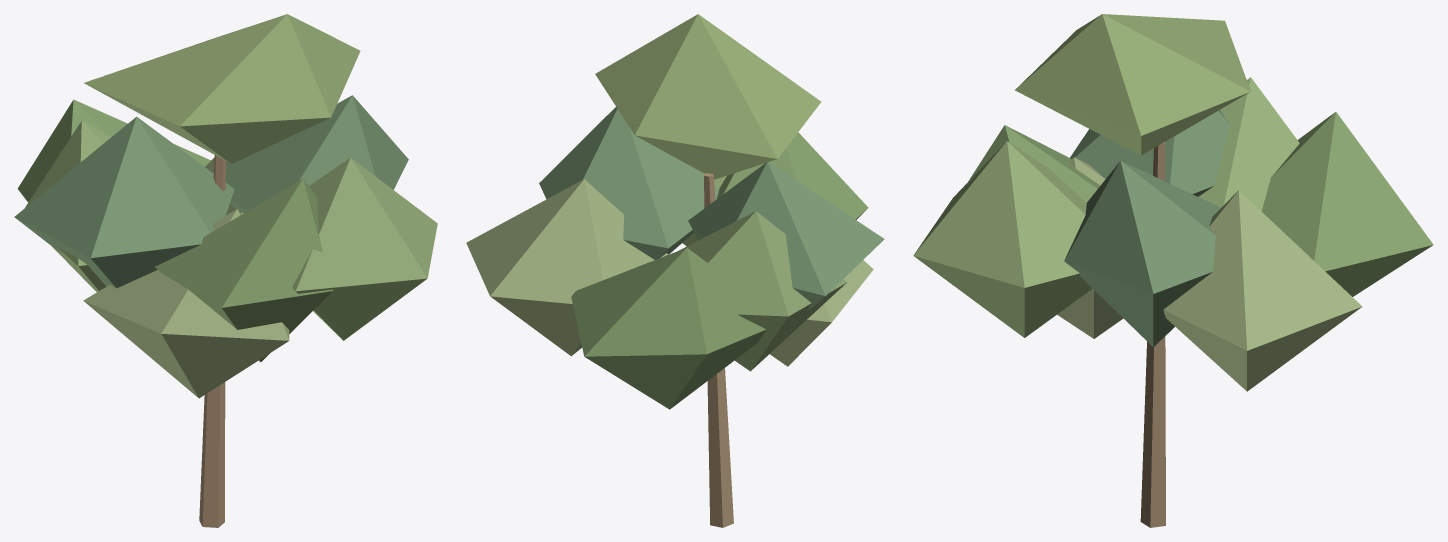
The picture shows the model from 3 angles, left to right: view 1: azimuth 30°, elevation 25°; view 2: azimuth 150°, elevation 25°; view 3: azimuth 270°, elevation 25°; orthographic projection. The views are drawn at different scales.
Bounding box in the file's own units: 8.53 × 10.94 × 9.67.
